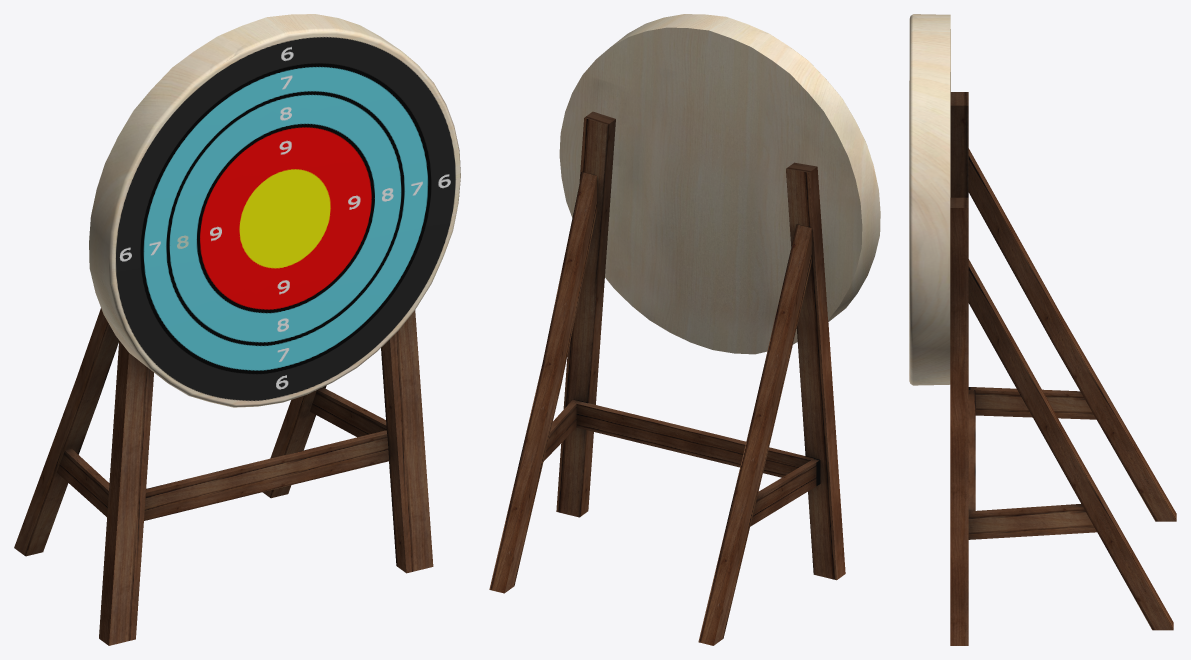
Rendered from ShootingTarget01.fbx.
The picture shows the model from 3 angles, left to right: view 1: azimuth 30°, elevation 25°; view 2: azimuth 150°, elevation 25°; view 3: azimuth 270°, elevation 25°; orthographic projection. The views are drawn at different scales.
Visible parts, largest first — view 1: TargetBoard, Rod07, Rod01, Rod04, Rod02, Rod06, Rod03, Rod05; view 2: TargetBoard, Rod07, Rod02, Rod03, Rod01, Rod04, Rod05, Rod06; view 3: TargetBoard, Rod02, Rod03, Rod01, Rod06, Rod05, Rod07, Rod04.
Part boxes in pixels (box(x1,y1,x2,y2)): TargetBoard: box(89, 14, 460, 407); Rod07: box(99, 341, 153, 645); Rod01: box(381, 310, 433, 573); Rod04: box(144, 430, 389, 520); Rod02: box(14, 308, 119, 556); Rod06: box(310, 388, 386, 437); Rod03: box(262, 385, 326, 498); Rod05: box(56, 449, 109, 516); TargetBoard: box(559, 14, 880, 354); Rod07: box(786, 162, 845, 580); Rod02: box(698, 224, 811, 645); Rod03: box(489, 172, 597, 593); Rod01: box(556, 111, 615, 517); Rod04: box(574, 401, 815, 477); Rod05: box(750, 458, 820, 526); Rod06: box(543, 399, 577, 461); TargetBoard: box(909, 14, 950, 385); Rod02: box(968, 148, 1176, 521); Rod03: box(968, 259, 1173, 630); Rod01: box(950, 197, 968, 645); Rod06: box(968, 504, 1096, 539); Rod05: box(968, 387, 1096, 419); Rod07: box(950, 92, 968, 197); Rod04: box(968, 390, 975, 511).
Size of the model in its own units: 0.0125 by 0.02 by 0.00898.
